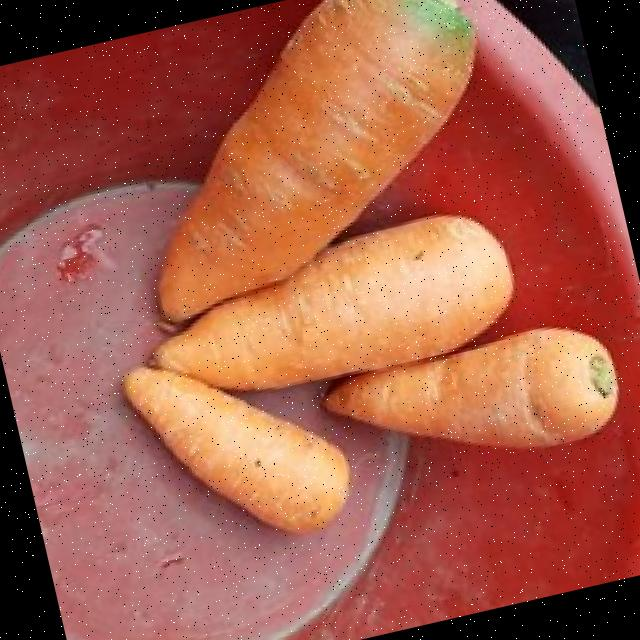carrot: (158, 0, 472, 321), (153, 215, 512, 390), (123, 367, 349, 534), (325, 328, 617, 448)
